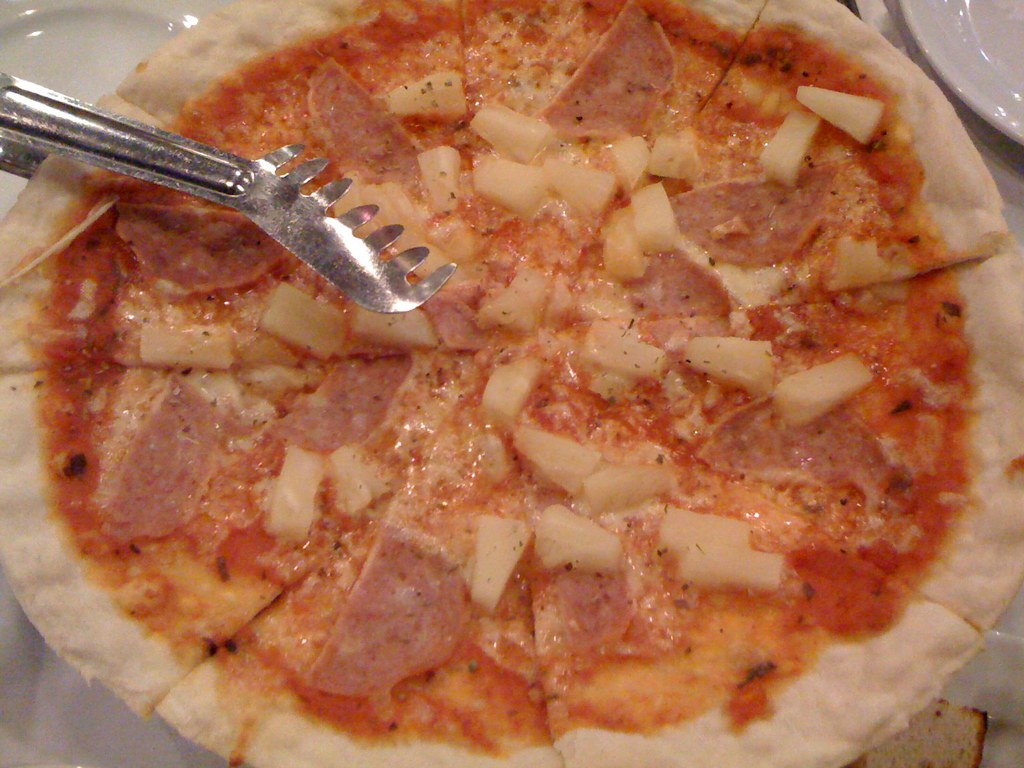Pizza: (10, 0, 1024, 768)
